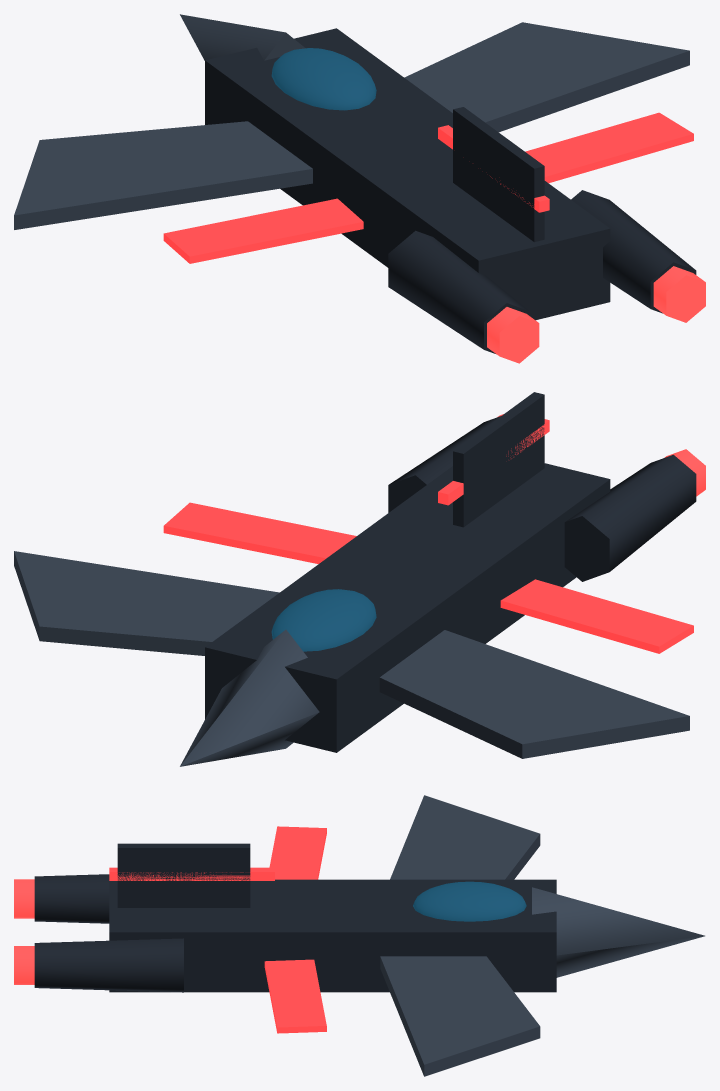
The model's file is raider.glb.
The picture shows the model from 3 angles, top to bottom: view 1: azimuth 30°, elevation 25°; view 2: azimuth 150°, elevation 25°; view 3: azimuth 270°, elevation 25°; orthographic projection. The views are drawn at different scales.
Parts seen in each view (by area): view 1: raider_core, raider_blade_l, raider_blade_r, Raider_Placeholder, raider_fin, blade_glow_l, blade_glow_r, raider_canopy, raider_nose, engine_glow_l, engine_glow_r; view 2: raider_core, raider_blade_l, raider_blade_r, Raider_Placeholder, raider_nose, raider_fin, blade_glow_l, blade_glow_r, raider_canopy, raider_fin_glow, engine_glow_l; view 3: raider_core, raider_blade_r, Raider_Placeholder, raider_blade_l, raider_fin, raider_nose, blade_glow_r, raider_canopy, blade_glow_l, raider_fin_glow, engine_glow_l, engine_glow_r.
Part boxes in pixels (bbox=[...]): raider_core: bbox=[205, 28, 610, 320]; raider_blade_l: bbox=[14, 121, 312, 229]; raider_blade_r: bbox=[404, 22, 689, 132]; Raider_Placeholder: bbox=[388, 190, 696, 353]; raider_fin: bbox=[453, 107, 544, 241]; blade_glow_l: bbox=[163, 198, 363, 263]; blade_glow_r: bbox=[525, 112, 693, 183]; raider_canopy: bbox=[271, 48, 376, 110]; raider_nose: bbox=[180, 14, 305, 60]; engine_glow_l: bbox=[487, 307, 539, 363]; engine_glow_r: bbox=[653, 266, 705, 322]; raider_core: bbox=[205, 463, 610, 752]; raider_blade_l: bbox=[379, 630, 689, 758]; raider_blade_r: bbox=[14, 551, 279, 655]; Raider_Placeholder: bbox=[388, 416, 696, 581]; raider_nose: bbox=[180, 629, 319, 766]; raider_fin: bbox=[453, 392, 544, 527]; blade_glow_l: bbox=[500, 579, 693, 653]; blade_glow_r: bbox=[163, 502, 356, 563]; raider_canopy: bbox=[271, 589, 376, 651]; raider_fin_glow: bbox=[438, 419, 549, 505]; engine_glow_l: bbox=[664, 449, 705, 496]; raider_core: bbox=[109, 879, 556, 992]; raider_blade_r: bbox=[380, 956, 540, 1076]; Raider_Placeholder: bbox=[34, 874, 183, 992]; raider_blade_l: bbox=[390, 795, 540, 879]; raider_fin: bbox=[117, 843, 250, 907]; raider_nose: bbox=[532, 887, 704, 977]; blade_glow_r: bbox=[264, 959, 326, 1033]; raider_canopy: bbox=[413, 881, 526, 921]; blade_glow_l: bbox=[269, 826, 326, 879]; raider_fin_glow: bbox=[109, 867, 274, 880]; engine_glow_l: bbox=[14, 879, 34, 918]; engine_glow_r: bbox=[14, 946, 34, 984].
Bounding box in the file's own units: 7.7 × 1.85 × 8.35.
